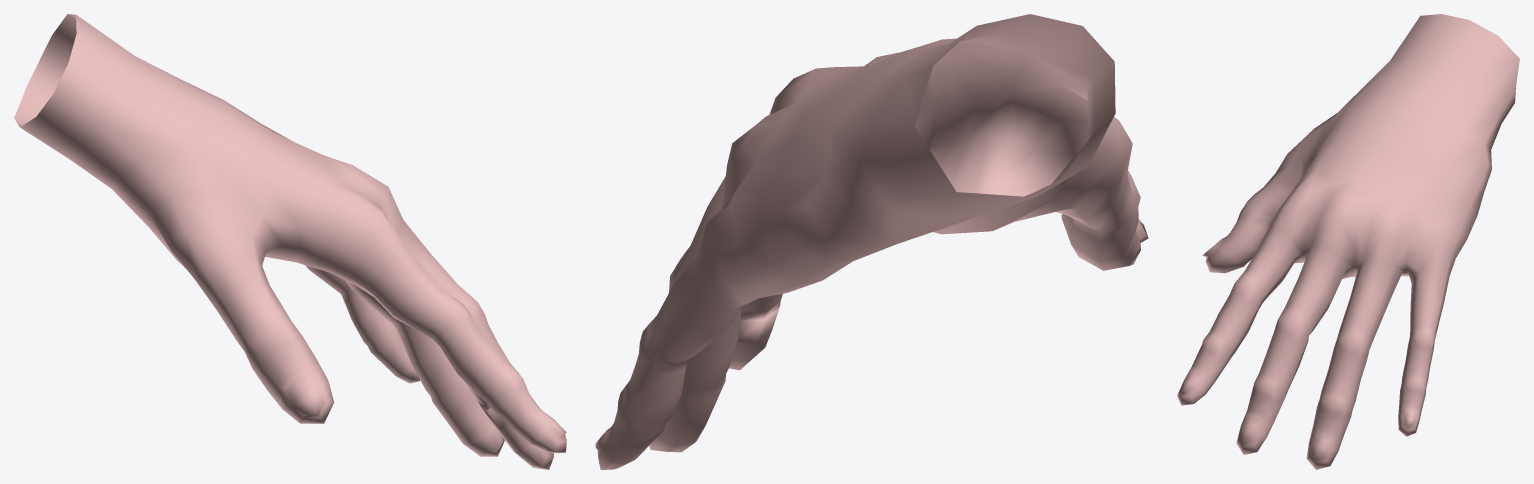
The model's file is Anime_Female_A_Hand01.fbx.
The picture shows the model from 3 angles, left to right: view 1: azimuth 30°, elevation 25°; view 2: azimuth 150°, elevation 25°; view 3: azimuth 270°, elevation 25°; orthographic projection. The views are drawn at different scales.
Parts seen in each view (by area): view 1: Anime_Female_A_Hand01; view 2: Anime_Female_A_Hand01; view 3: Anime_Female_A_Hand01.
Boxes of the visible parts, x1,y1,x2,y2 form: Anime_Female_A_Hand01: (14,14,566,469); Anime_Female_A_Hand01: (595,14,1148,469); Anime_Female_A_Hand01: (1177,14,1519,469).
Bounding box in the file's own units: 0.812 × 0.8697 × 0.8111.
